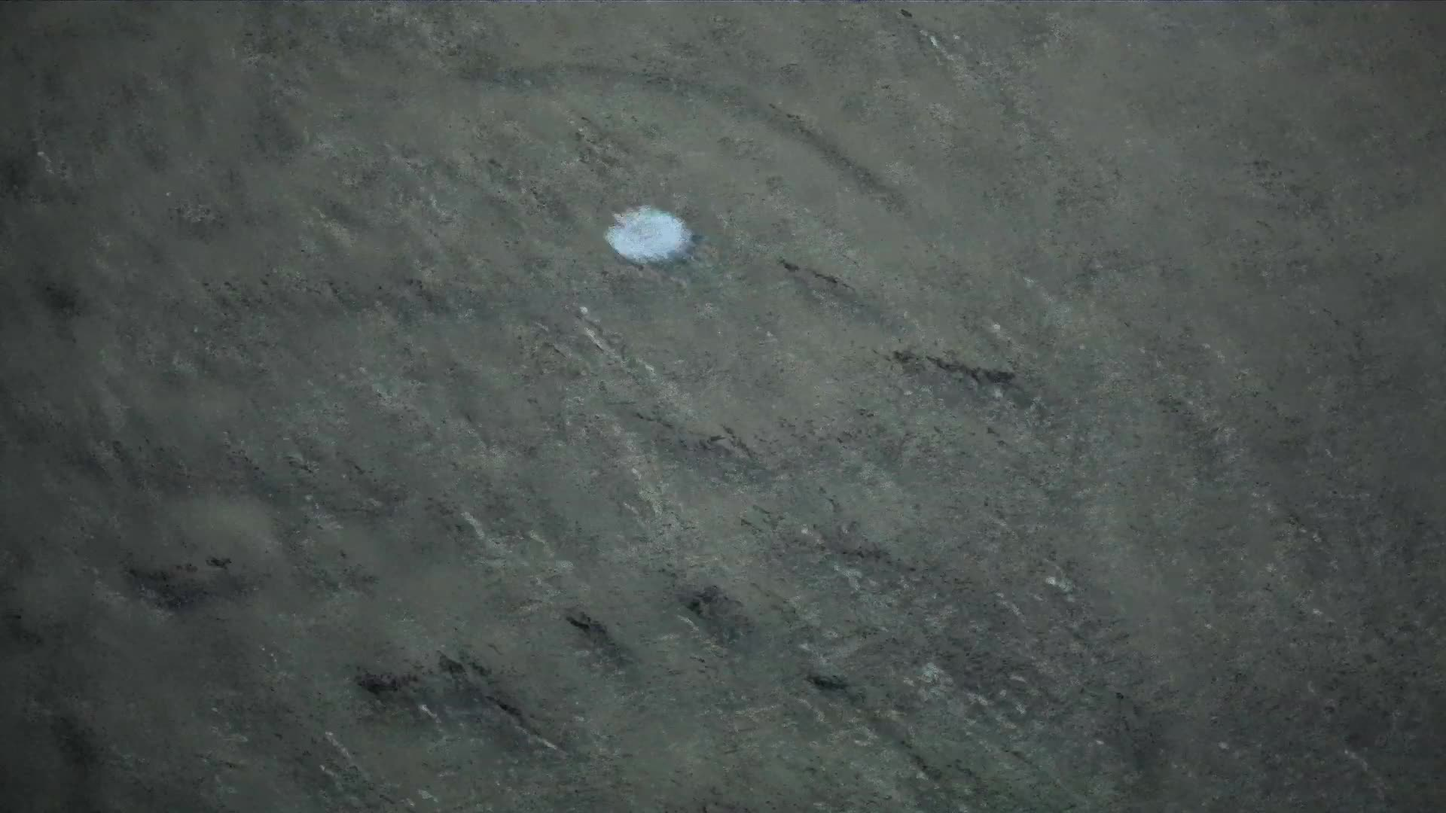Target: (599, 203, 698, 266)
